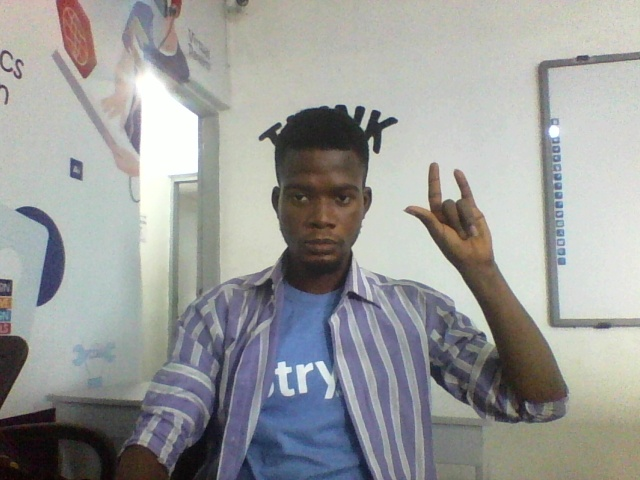i_love_you: (400, 160, 501, 270)
